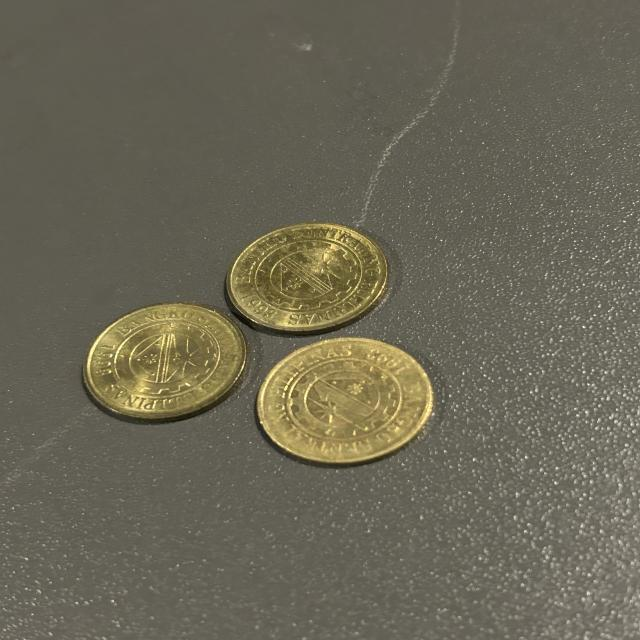25Cent_Old_Back: (92, 306, 228, 414), (279, 347, 409, 451), (232, 222, 360, 318)
